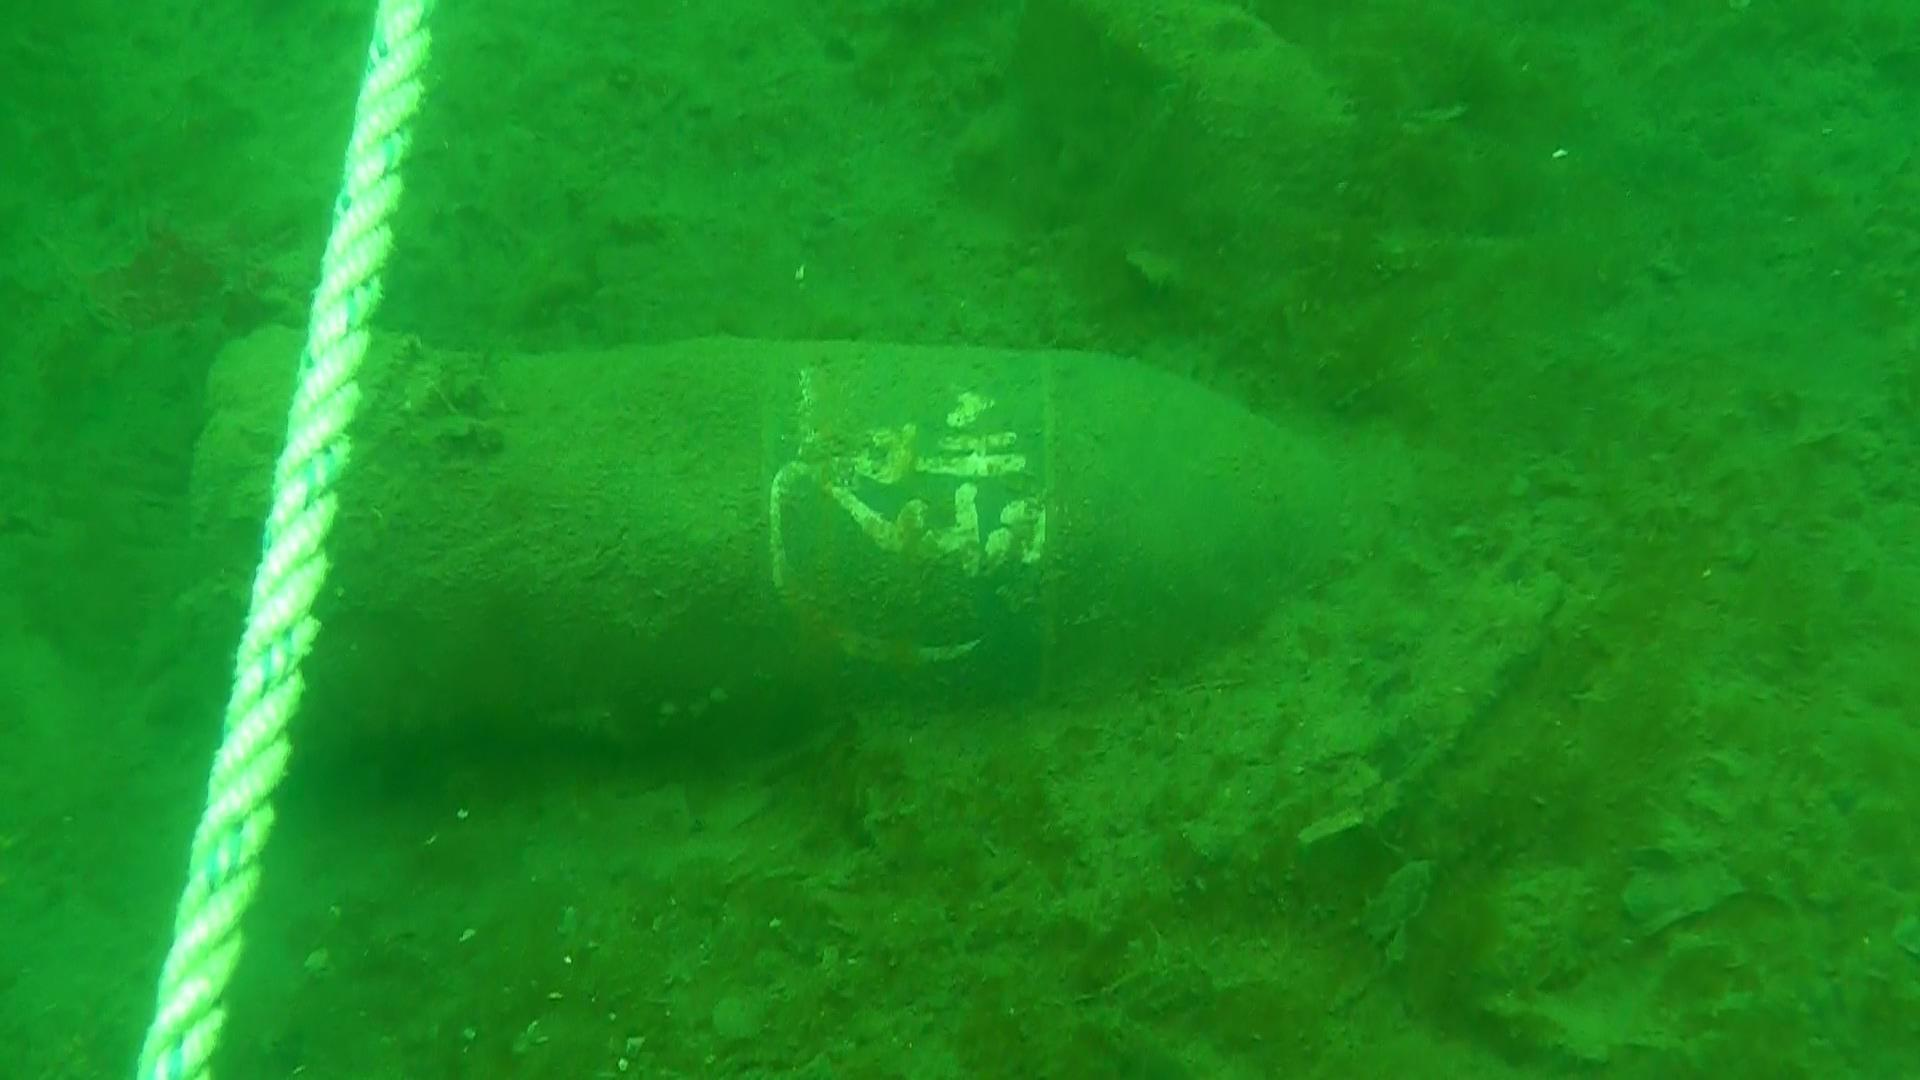rope: (131, 0, 429, 1080)
